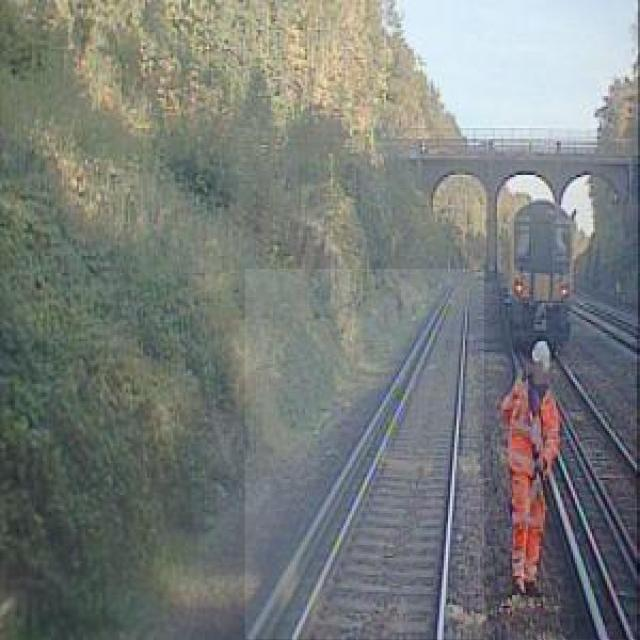rail: (246, 270, 485, 640), (514, 338, 640, 640)
